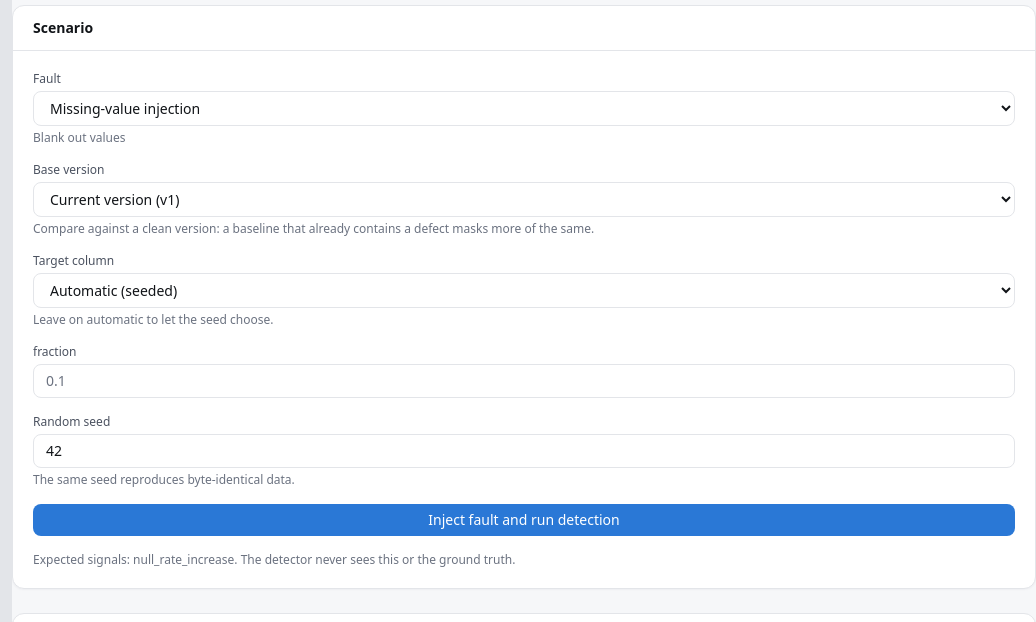
Test: LabPage › regenerates reproducibly and resets
The width and height of the screenshot is (1036, 622).
Click the button "Inject fault and run detection".
click(524, 520)  # box [33,504,1015,536]
(page scrolled)
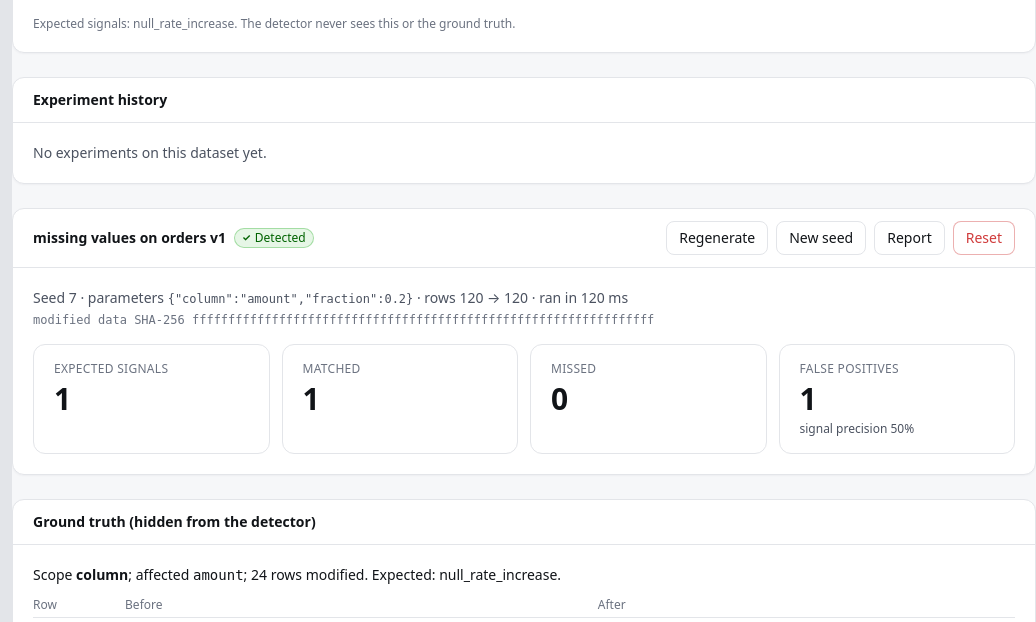
Click the button "Regenerate".
click(717, 238)  # box [666,221,768,255]
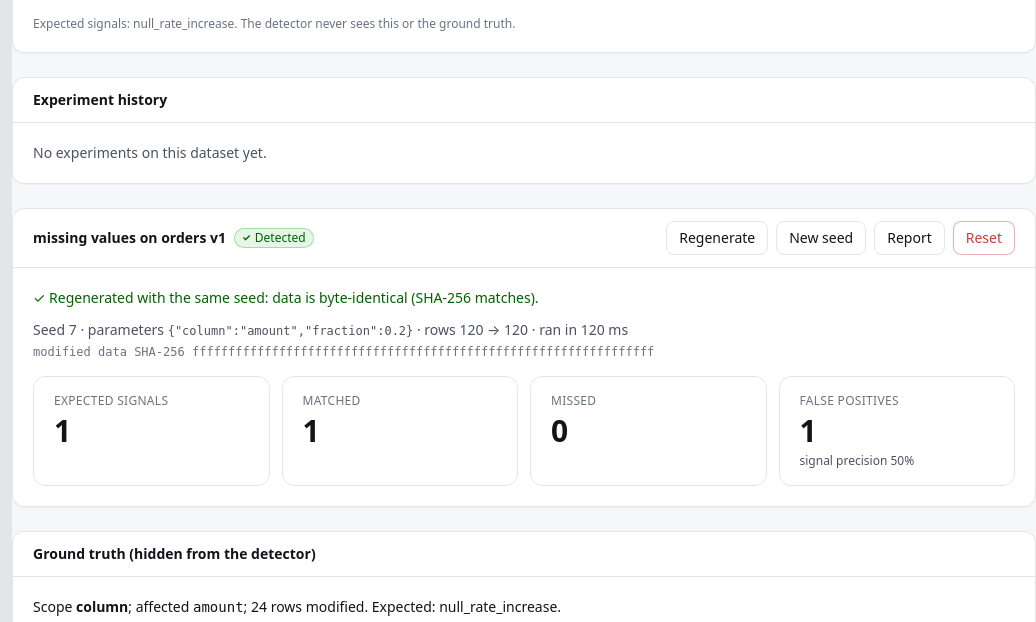
Check: the text "✓ Regenerated with the same seed: data is byte-identical (SHA-256 matches)." is shown, box [33,288,539,307]
Click the button "Reset".
click(984, 238)  # box [953,221,1015,255]
(page scrolled)
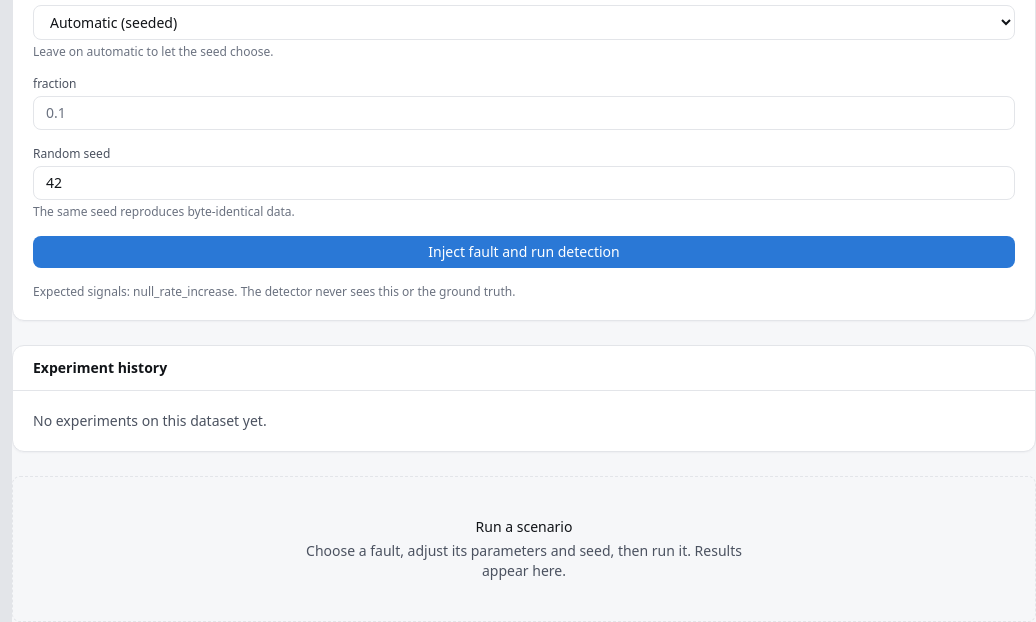
Check: the text "Run a scenario" is shown, box [476,517,572,537]
